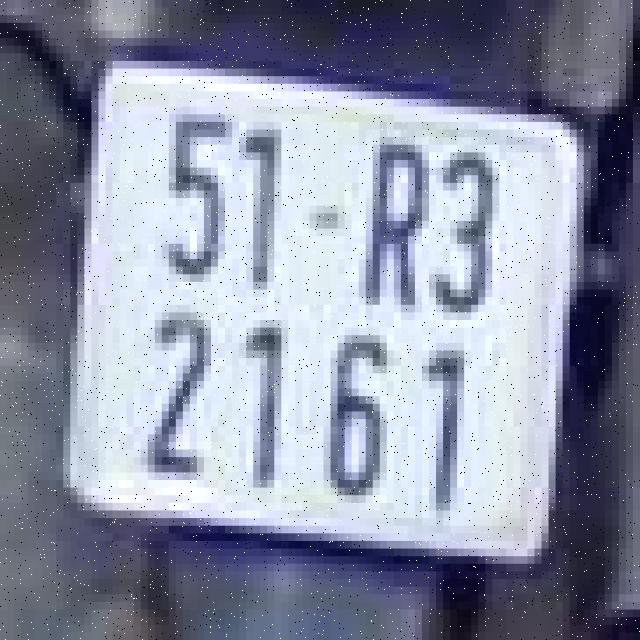1: (232, 308, 288, 506), (415, 332, 471, 514), (236, 103, 284, 293)
2: (134, 297, 218, 495)
3: (429, 130, 506, 320)
5: (144, 103, 236, 286)
6: (316, 324, 401, 499)
R: (355, 111, 440, 316)
